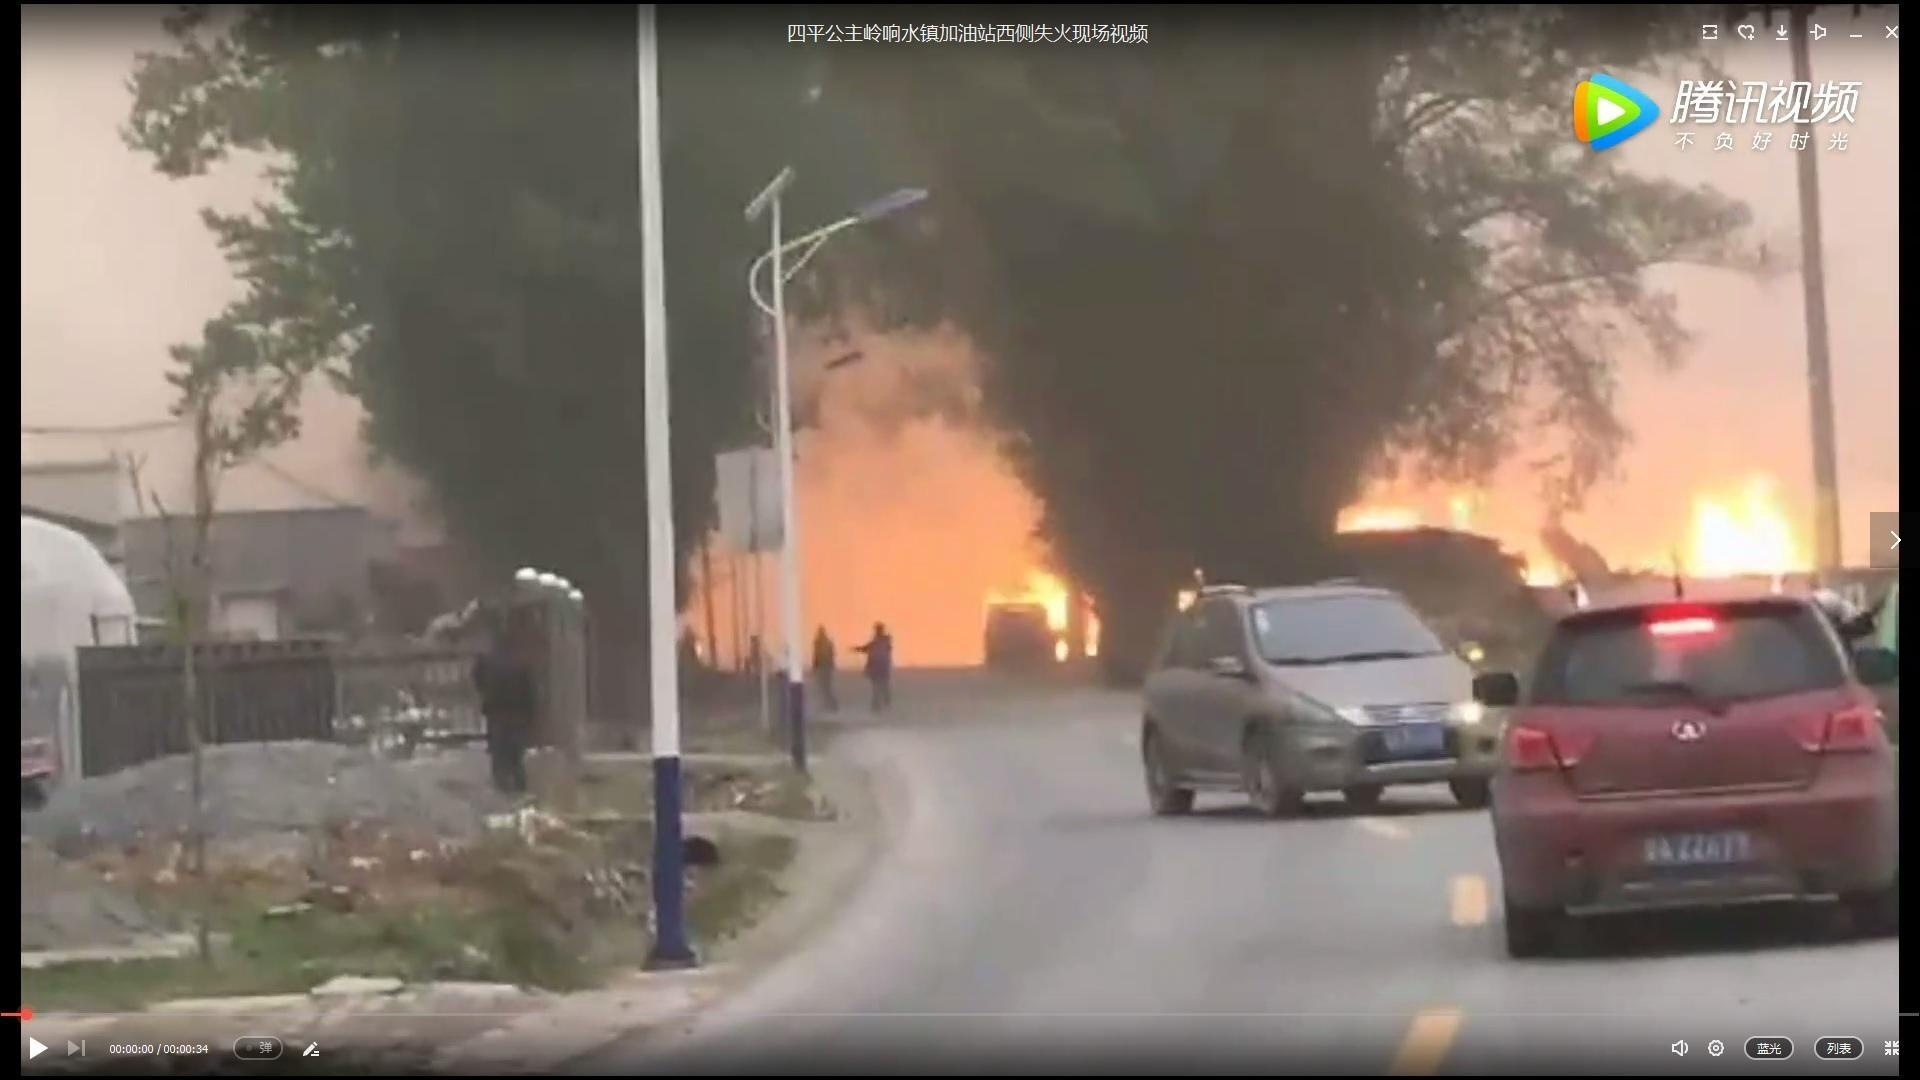fire: (1677, 473, 1804, 576), (1337, 487, 1516, 550), (986, 566, 1095, 662)
